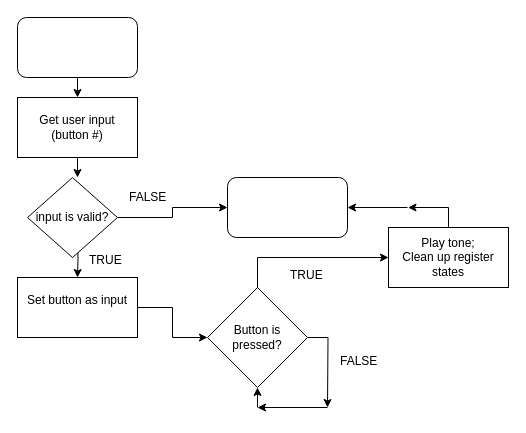
Image size: 526x433. Some labels were removed from this diagram. The centre of each missing label's shape, as x and y in pixels:
START: [77,47]
STOP: [287,207]
